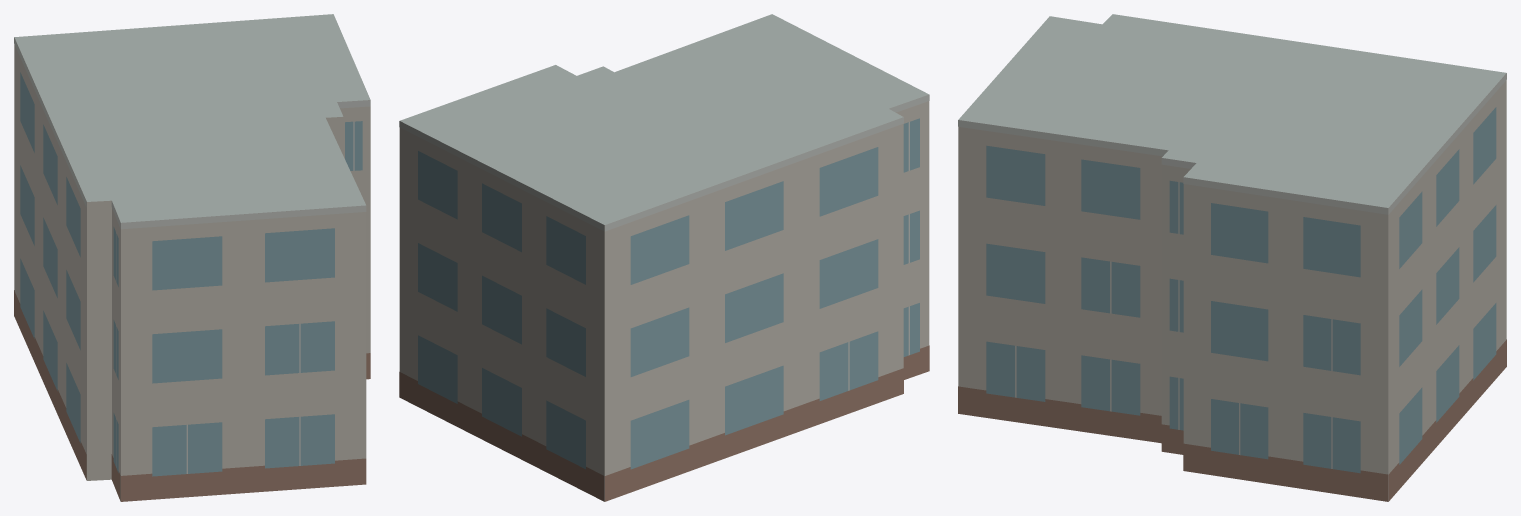
File: survey-upis-32930291.glb
The picture shows the model from 3 angles, left to right: view 1: azimuth 30°, elevation 25°; view 2: azimuth 150°, elevation 25°; view 3: azimuth 270°, elevation 25°; orthographic projection. The views are drawn at different scales.
Visible parts, largest first — view 1: survey-upis-32930291.tmp; view 2: survey-upis-32930291.tmp; view 3: survey-upis-32930291.tmp.
Part boxes in pixels (x1=…): survey-upis-32930291.tmp: x1=14, y1=14, x2=370, y2=501; survey-upis-32930291.tmp: x1=399, y1=14, x2=929, y2=501; survey-upis-32930291.tmp: x1=958, y1=14, x2=1506, y2=501.
Size of the model in its own units: 14.88 by 10.5 by 17.78.
